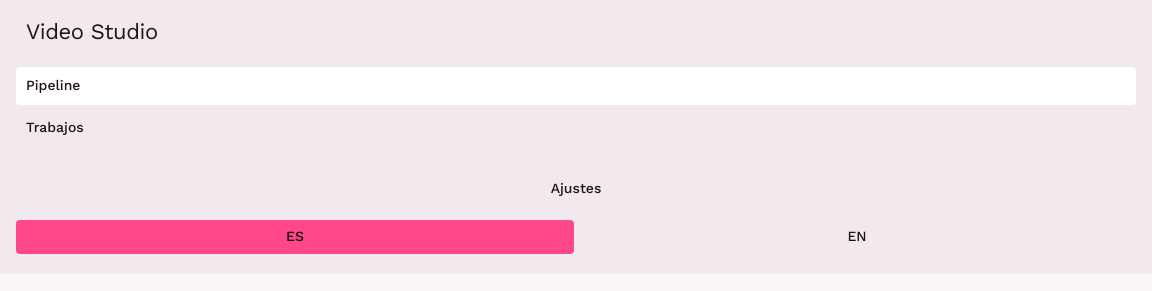
Sidebar › switches language, relabels the UI and persists the choice
This screenshot has width=1152, height=291.
Click the button "EN".
click(857, 237)  # box [578,220,1136,254]
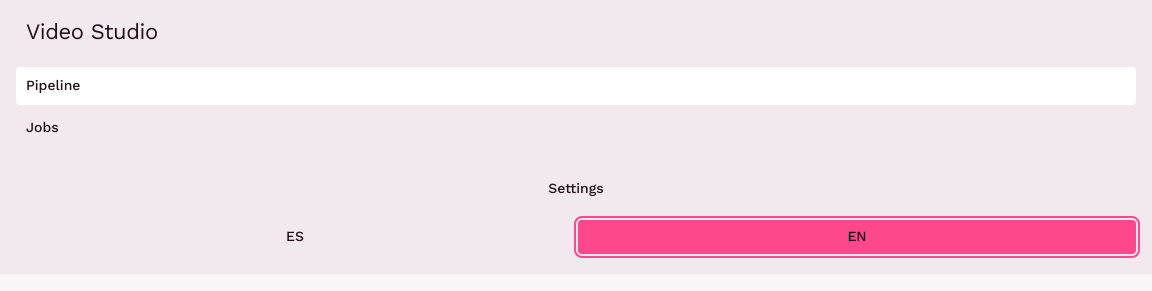
Expected: the button "Settings" is shown, [16,170,1136,208]
Expected: the navigation bar named "Main navigation" is shown, [16,67,1136,146]
